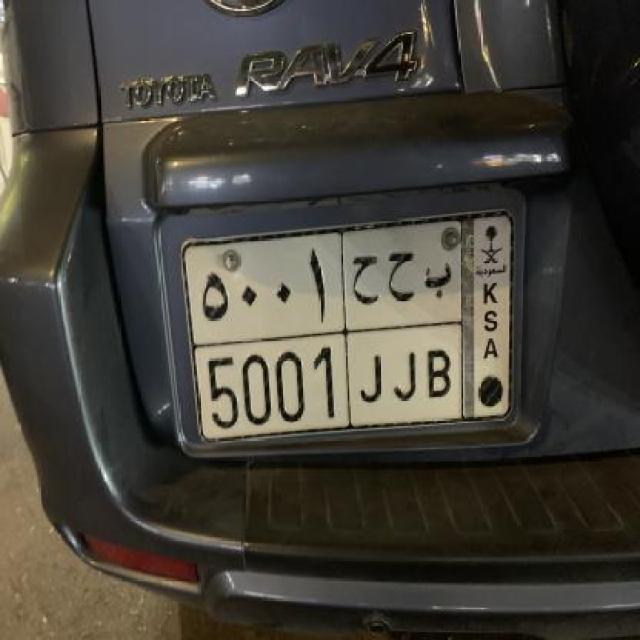license_plate: (176, 205, 518, 450)
